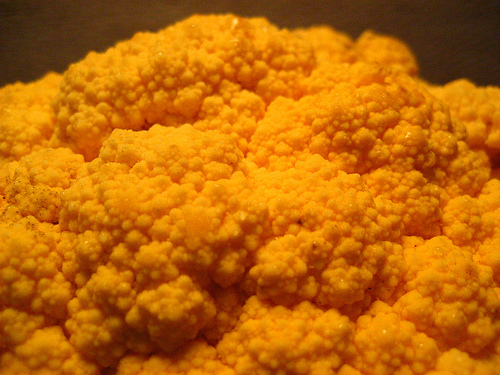cauliflower: (1, 14, 499, 374)
